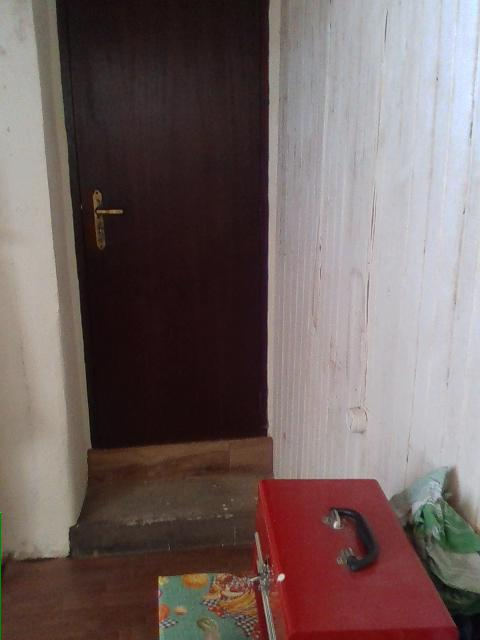door: (55, 0, 269, 449)
